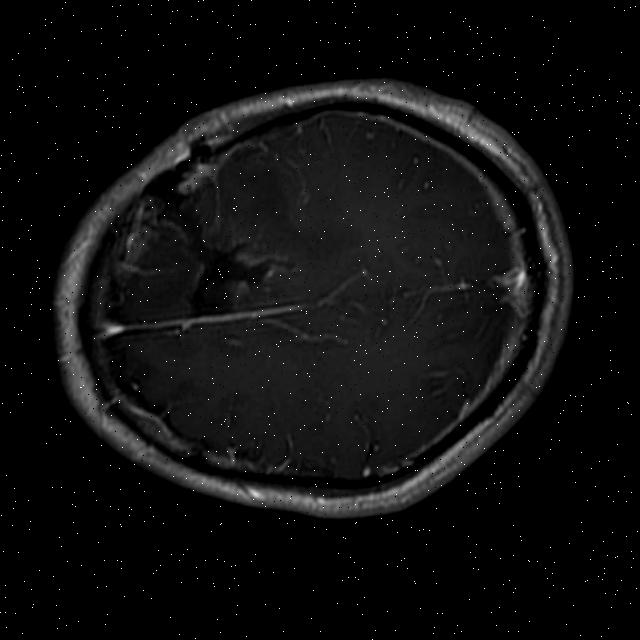Glioma: (162, 194, 298, 318)
